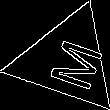M_W: (34, 30, 99, 91)
